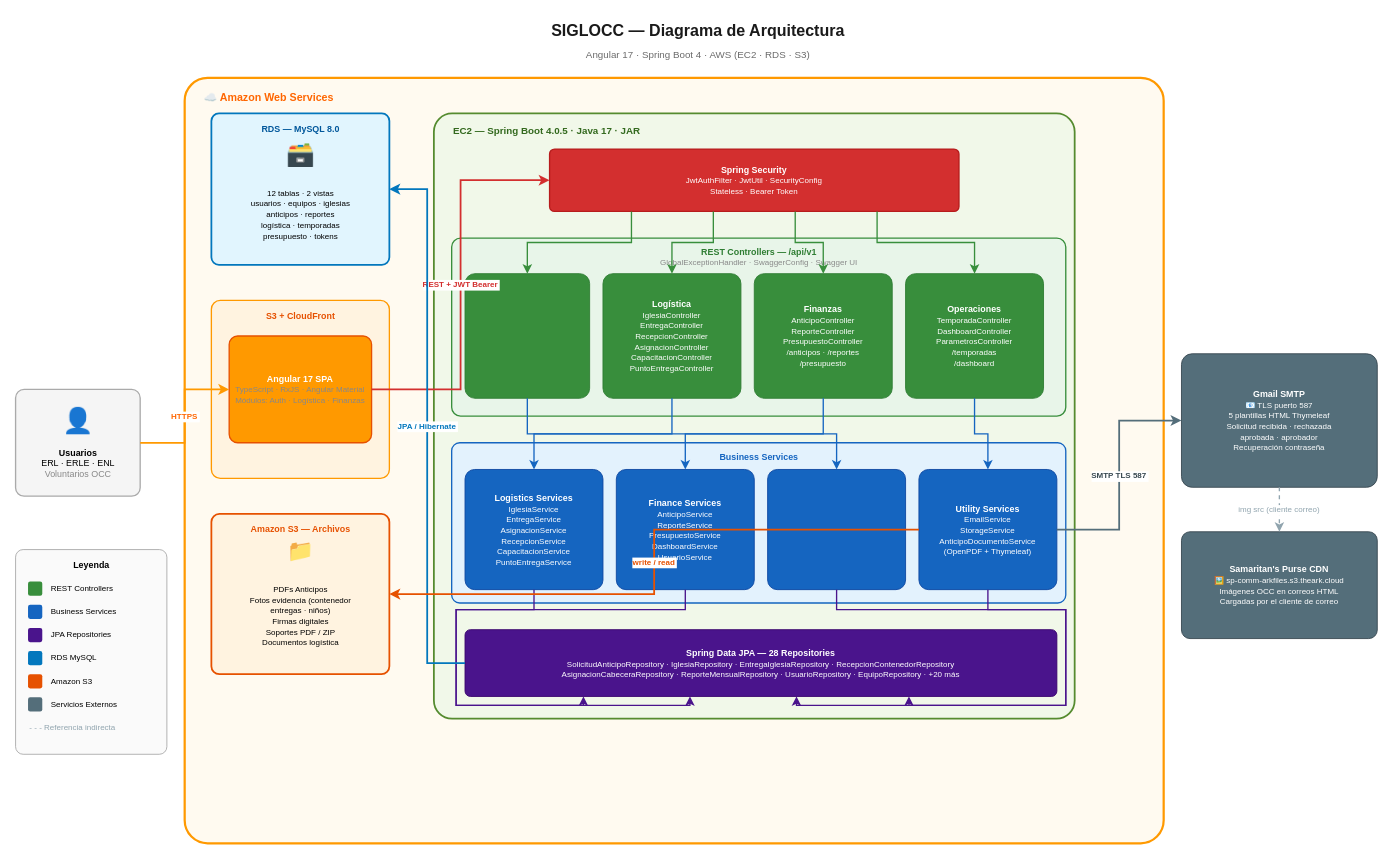
Image size: 1394x860. Some labels were removed from this diagram. Here are the shapes that lost their labels. From the top down, the centre of each, then its label:
At point 527,335: "Auth AuthController UsuarioController /auth · /usuarios".
At point 836,529: "Auth Services UserDetailsServiceImpl RecuperacionPasswordService".
